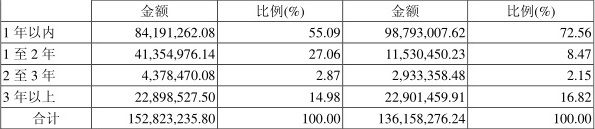column: (130, 1, 216, 129), (380, 2, 466, 129), (256, 1, 341, 129), (507, 1, 592, 129), (3, 1, 59, 126)
row: (1, 25, 595, 39), (2, 4, 594, 18), (1, 48, 595, 61), (1, 91, 595, 103), (1, 112, 595, 124), (1, 69, 591, 80)
